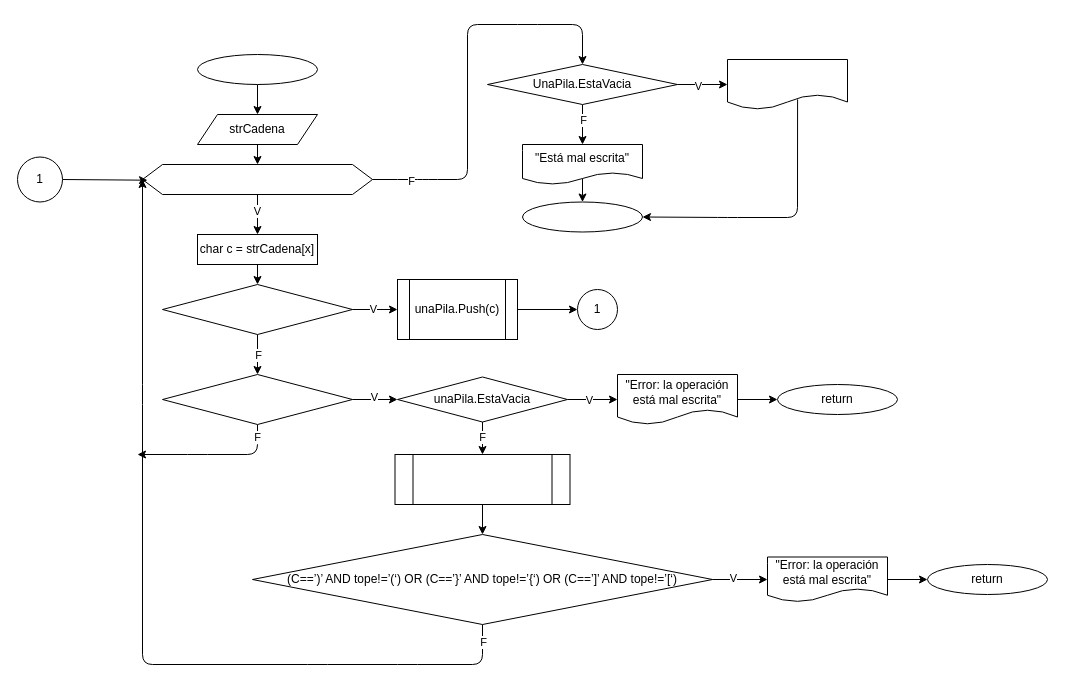
This 1065x690 diagram has some shape labels left out. The shapes that lost their labels are listed below. From the top down, each one's centre as x and y in pixels, then its label:
point (257, 69): INICIO
point (787, 84): "Está bien escrita"
point (257, 179): for(int x; x<strCadena.Length; x++)
point (582, 216): FIN
point (257, 309): c=='(' OR c=='{' OR c=='['
point (257, 399): c==')' OR c=='}' OR c==']'
point (482, 479): char tope = unaPila.Pop()
